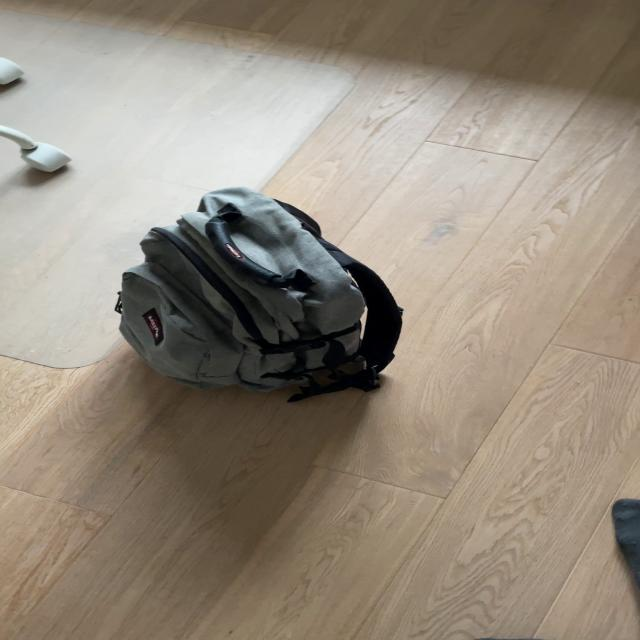backpack: (94, 181, 410, 397)
